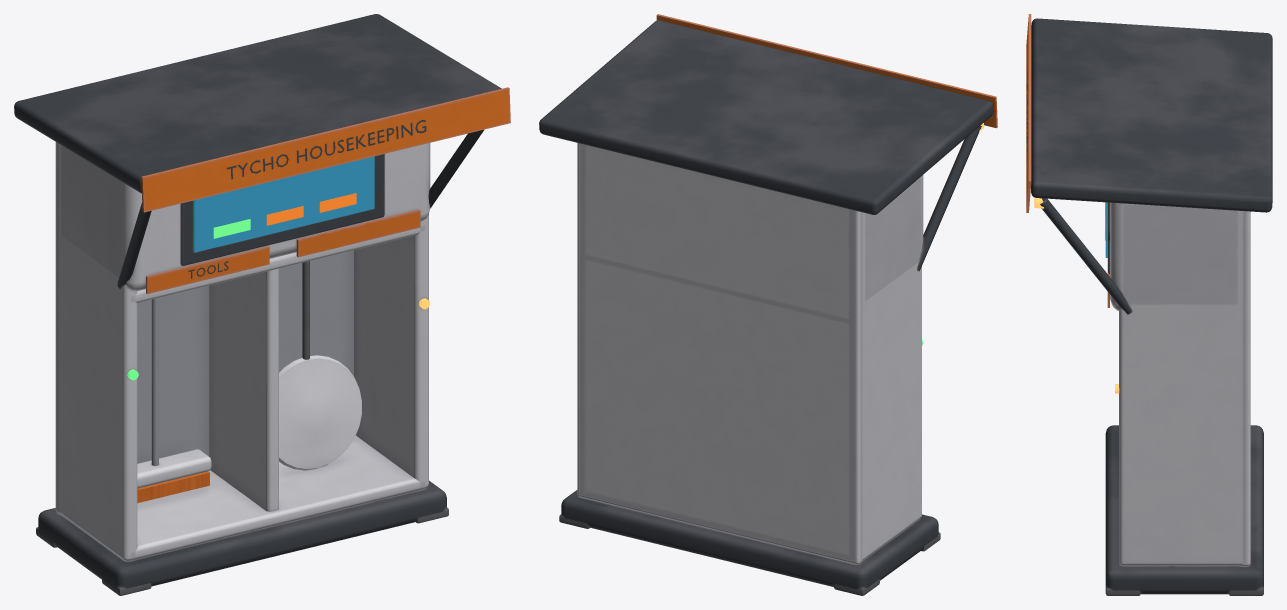
Rendered from tool_locker.glb.
3 views of the same model, side by side, from view 1: azimuth 30°, elevation 25°; view 2: azimuth 150°, elevation 25°; view 3: azimuth 270°, elevation 25° (orthographic). The views are drawn at different scales.
Visible parts, largest first — view 1: Locker; view 2: Locker; view 3: Locker.
Part boxes in pixels (<box>): Locker: <box>14,14,510,595</box>; Locker: <box>539,14,997,595</box>; Locker: <box>1026,14,1272,595</box>.
Bounding box in the file's own units: 1.8 × 2.13 × 1.12.
Materials: 1 (1 with a texture image).
